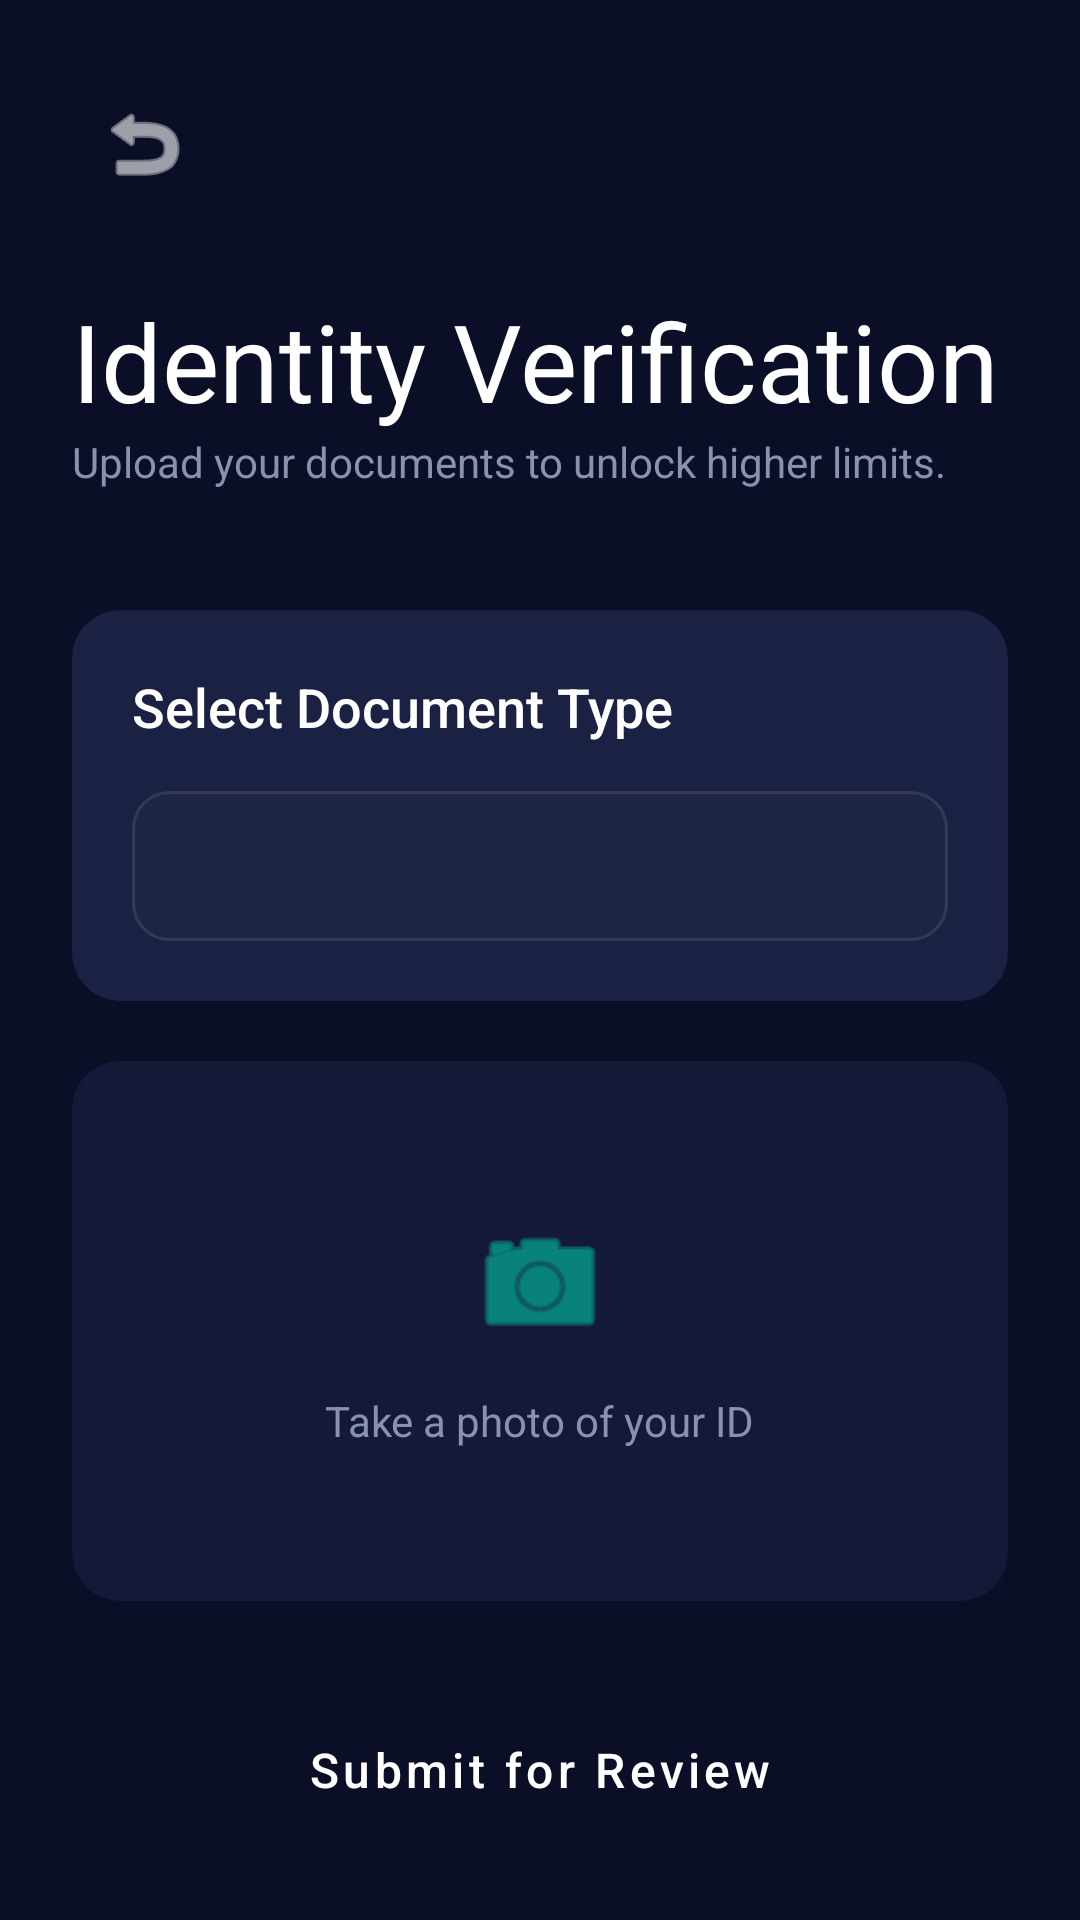

Where to tap for icons on this 1080 x 1920 app screen, as point (x, y):
camera: point (539, 1282)
revert: point (145, 144)
